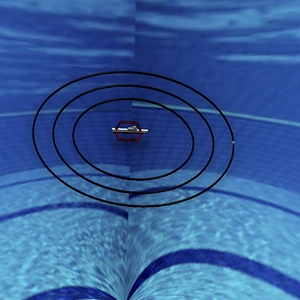circle: (24, 59, 242, 215)
submarine: (107, 113, 153, 153)
